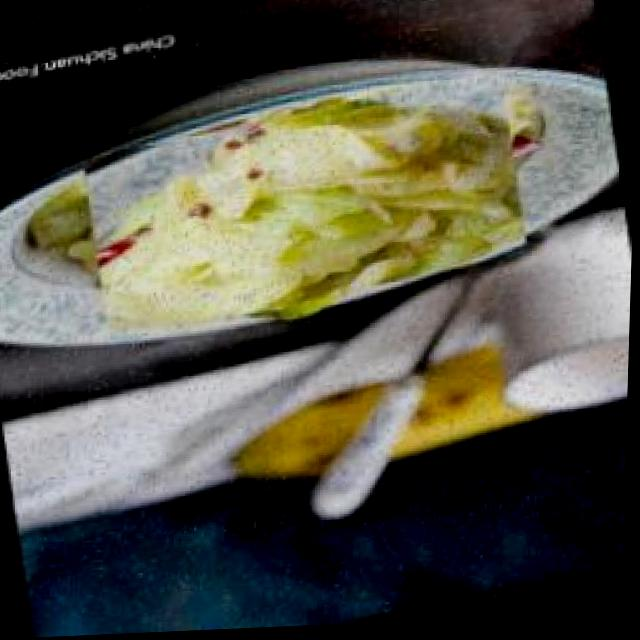chinese_cabbage: (77, 69, 538, 348)
